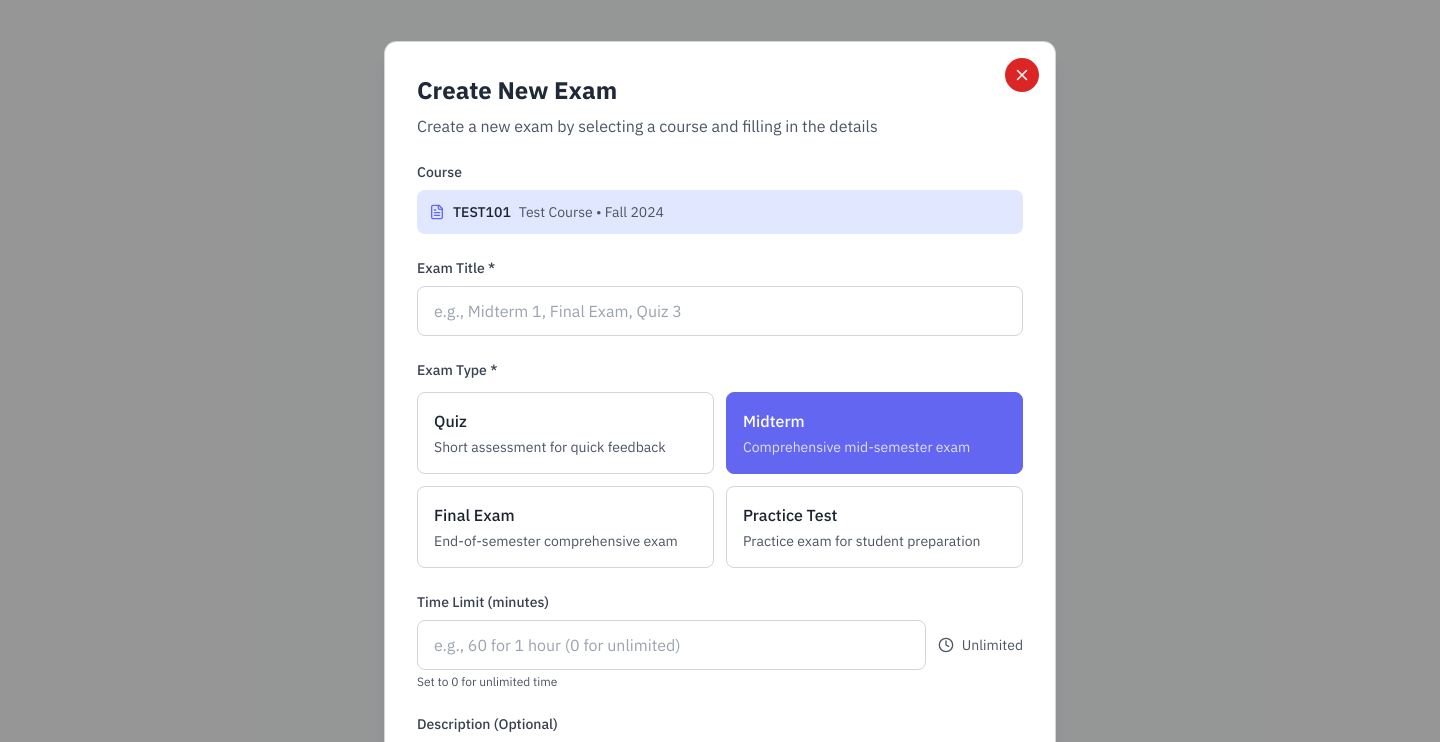
CreateExamModal › Time Limit Input Behavior › prevents leading zeros
Type "060" into the number field with placeholder "e.g., 60 for 1 hour (0 for unlimited)" at (671, 644), box [417, 620, 926, 670]
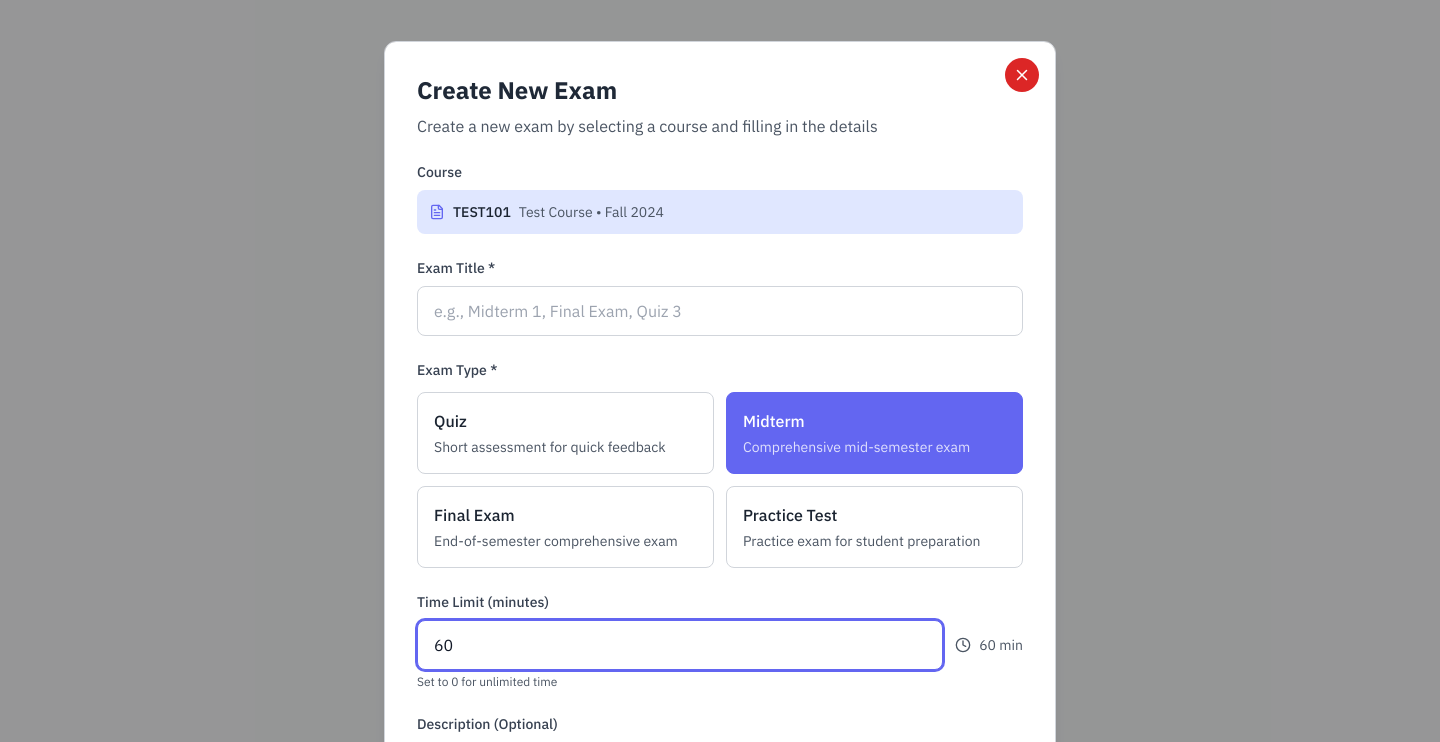
Expected: the number field with placeholder "e.g., 60 for 1 hour (0 for unlimited)" holds "60", [417, 620, 943, 670]
